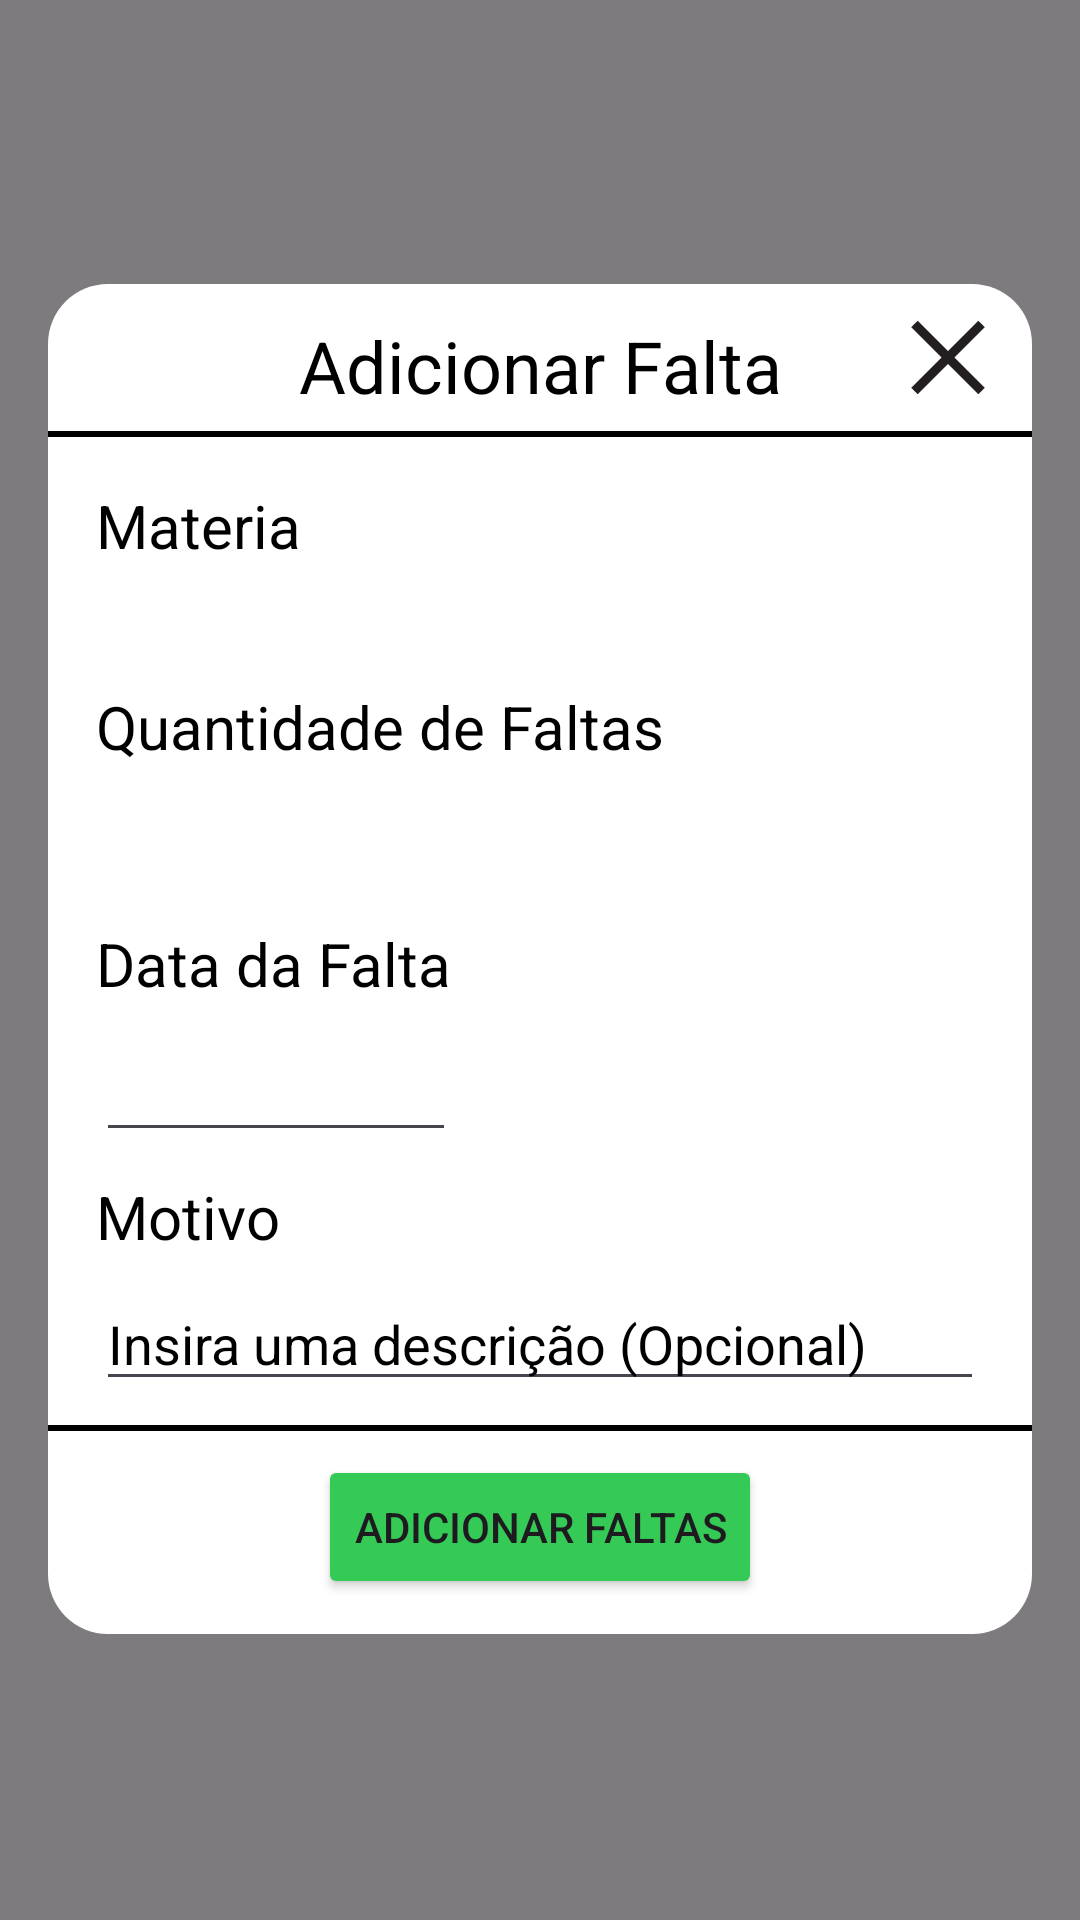

Point at icon controls on the screen. Image size 1080w x 1920h, points as point (x, y).
close: point (948, 357)
